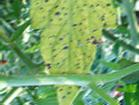Tomato Septoria leaf spot: (0, 0, 132, 105)
